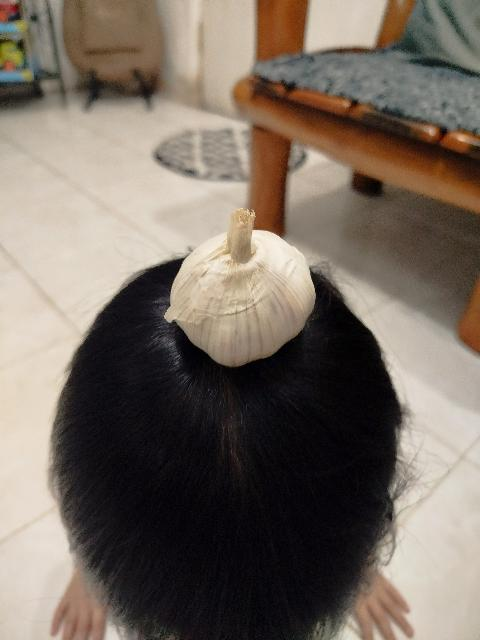garlic: (164, 207, 316, 367)
